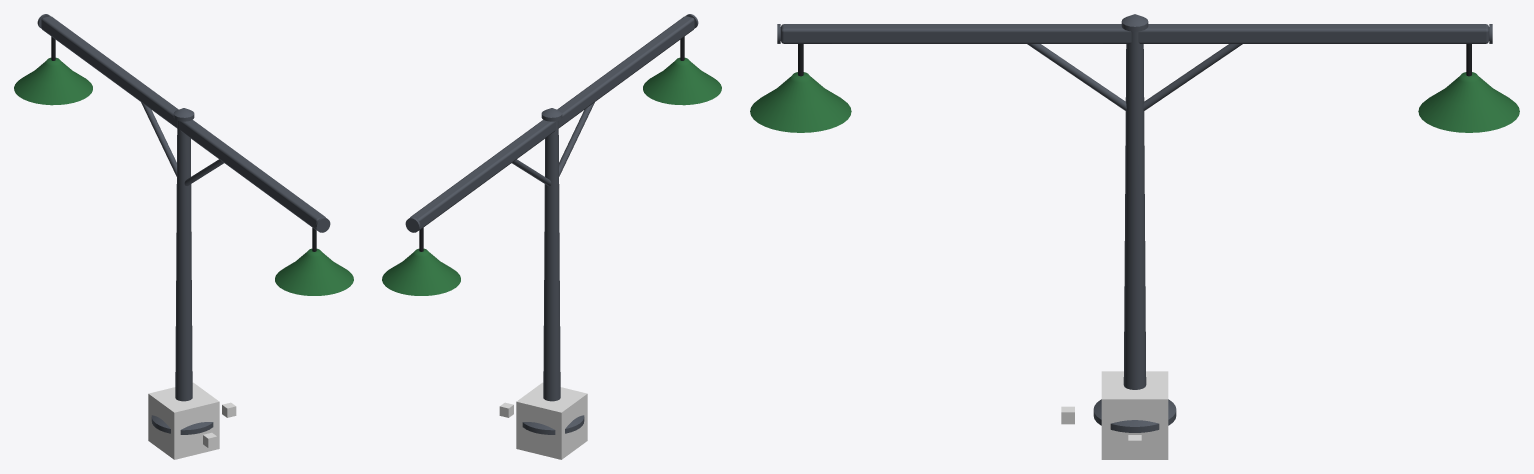
File: LampBasic.fbx
3 views of the same model, side by side, from view 1: azimuth 30°, elevation 25°; view 2: azimuth 150°, elevation 25°; view 3: azimuth 270°, elevation 25° (orthographic). The views are drawn at different scales.
Parts seen in each view (by area): view 1: Body__MetalDark, Body__GreenDark, Origin__Pivot; view 2: Body__MetalDark, Body__GreenDark, Origin__Pivot; view 3: Body__MetalDark, Body__GreenDark, Origin__Pivot.
Part boxes in pixels (x1=…): Body__MetalDark: x1=37, y1=14, x2=330, y2=434; Body__GreenDark: x1=14, y1=57, x2=353, y2=295; Origin__Pivot: x1=148, y1=382, x2=219, y2=459; Body__MetalDark: x1=405, y1=14, x2=698, y2=434; Body__GreenDark: x1=382, y1=57, x2=721, y2=295; Origin__Pivot: x1=516, y1=382, x2=587, y2=459; Body__MetalDark: x1=777, y1=14, x2=1492, y2=432; Body__GreenDark: x1=750, y1=72, x2=1519, y2=132; Origin__Pivot: x1=1101, y1=371, x2=1168, y2=459.
Bounding box in the file's own units: 1.86 × 7.13 × 11.52.
